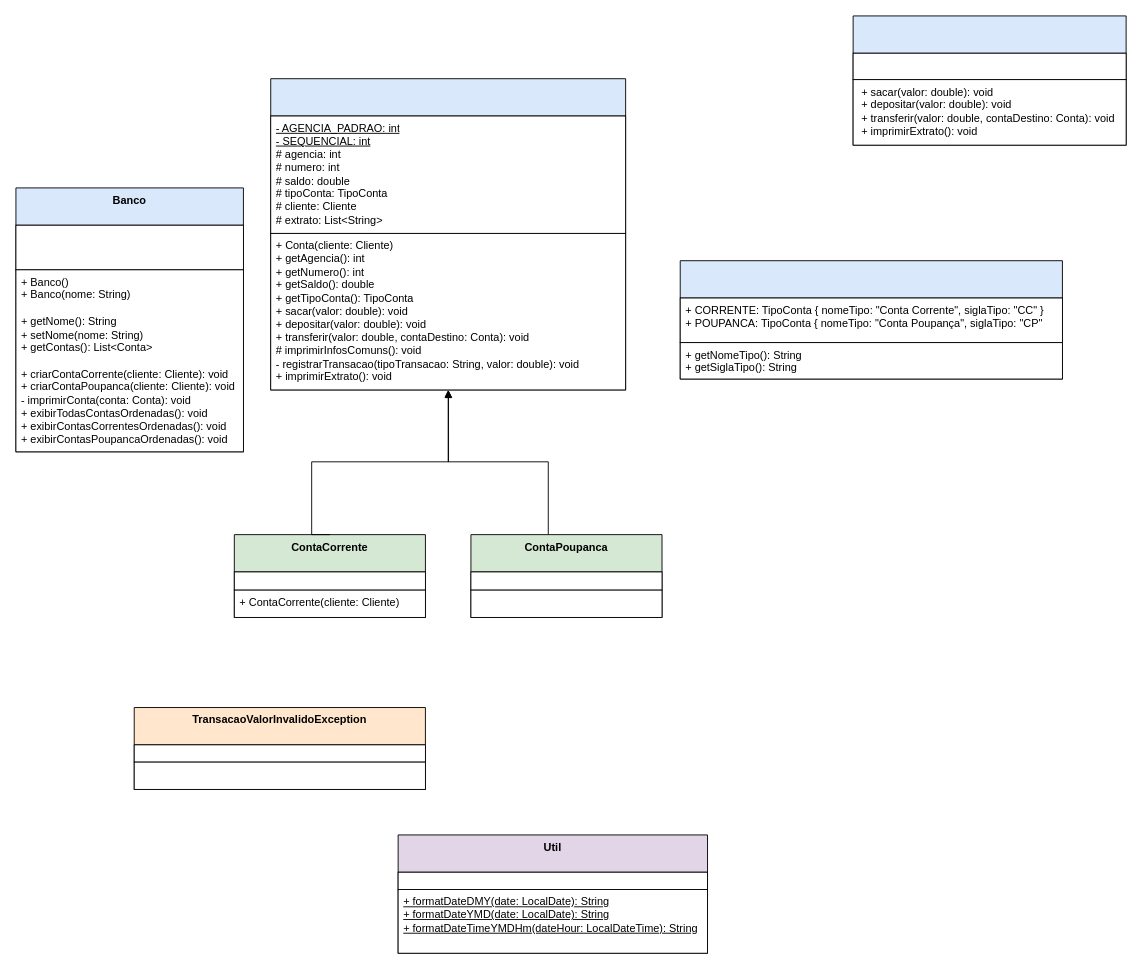
Some shapes in this 1142 by 972 pixel diagram are drawn without their labels. The box of each missing label's shape, as (x1, y1, x2, y2) in pixels:
+ ContaPoupanca(cliente: Cliente): (470, 589, 662, 617)
+ TransacaoValorInvalidoException(mensagem: String): (133, 761, 425, 789)
- nome: String - contas: List<Conta>: (15, 224, 243, 270)
<<Abstract>> Conta: (270, 78, 626, 390)
<<enumeration>> TipoConta: (679, 260, 1062, 379)
<<Interface>> Conta: (852, 15, 1126, 145)
